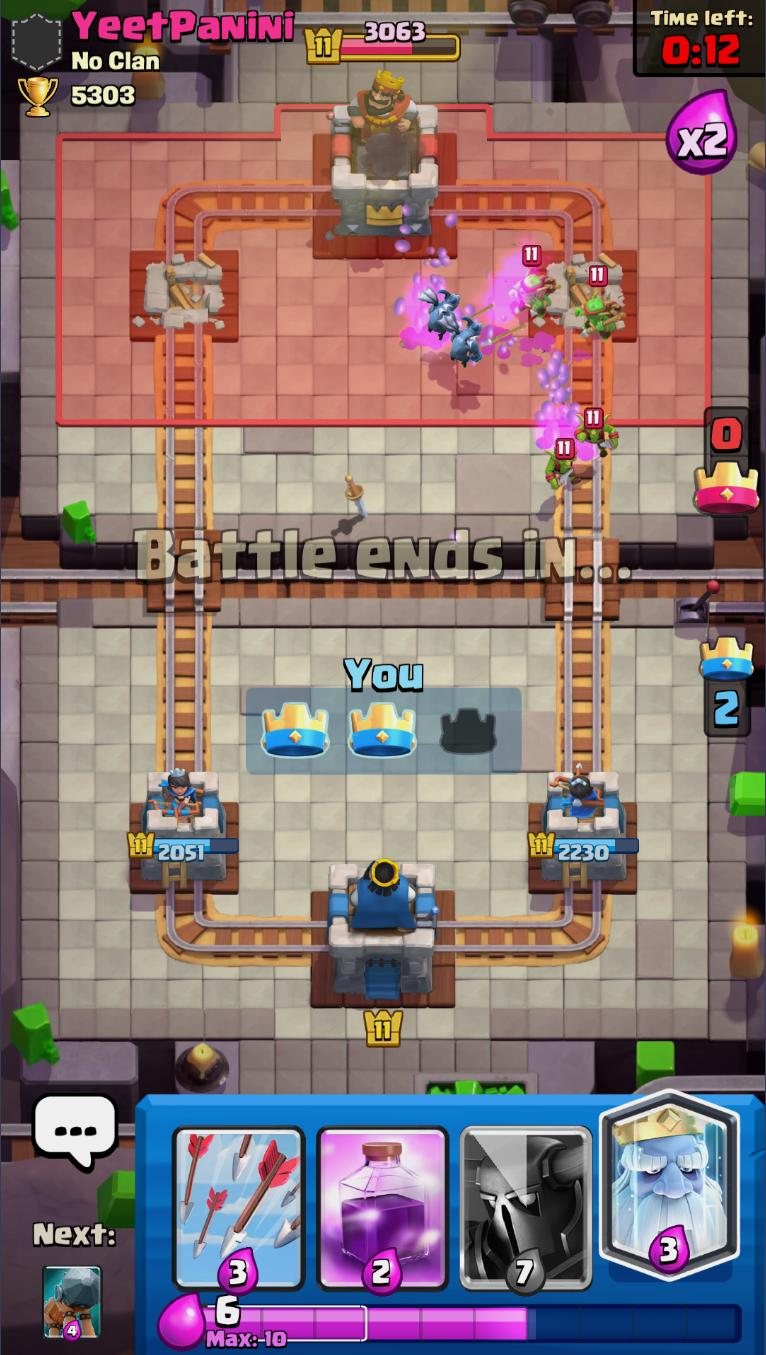ArrowDeck: (167, 1095, 310, 1296)
BattleRamNext: (41, 1264, 103, 1343)
Elixir: (203, 1295, 744, 1350)
EnemyTowerBrocken: (125, 252, 236, 350), (533, 250, 631, 337)
Goblin: (575, 409, 618, 455), (542, 438, 579, 488)
KingTower: (326, 80, 443, 243)
KingTowerHP: (304, 20, 461, 65)
MyKingTower: (326, 858, 440, 1000)
MyMinion: (418, 285, 462, 338), (442, 314, 485, 368)
MyPrincessTower: (126, 768, 240, 886), (528, 770, 640, 886)
MyPrincessTowerHP: (126, 830, 239, 862), (527, 832, 640, 862)
PekkaDeck: (456, 1094, 598, 1295)
RageDeck: (311, 1095, 455, 1296)
RoyaleGhostDeck: (598, 1094, 742, 1296)
SpearGoblin: (508, 243, 558, 327), (572, 265, 625, 336)
